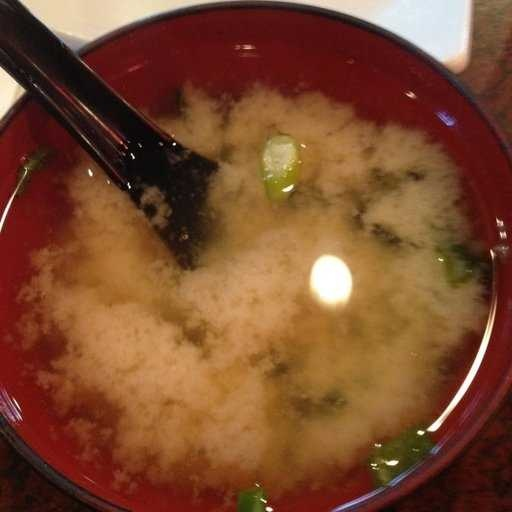soup: (1, 25, 481, 500)
